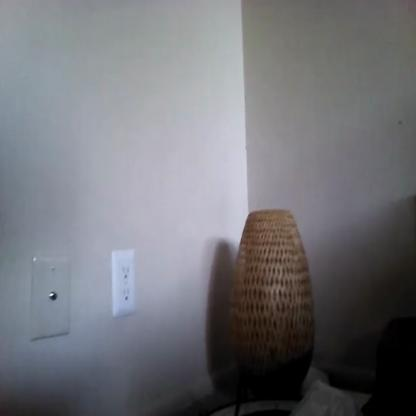OUTLET: (112, 249, 136, 318)
